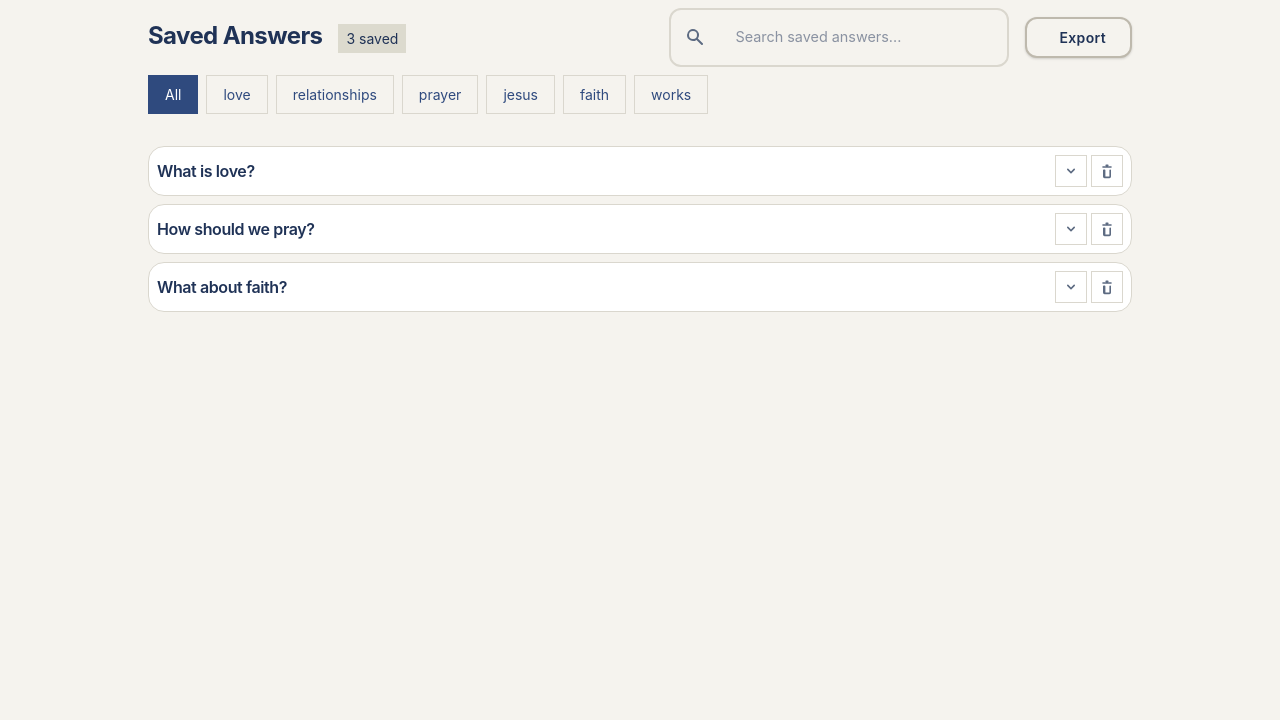
Test: SavedAnswers.vue › Export Functionality › export modal starts with no answers selected
The width and height of the screenshot is (1280, 720).
Click the button with class "btn--secondary" at (1079, 37), box [1025,17,1132,58]
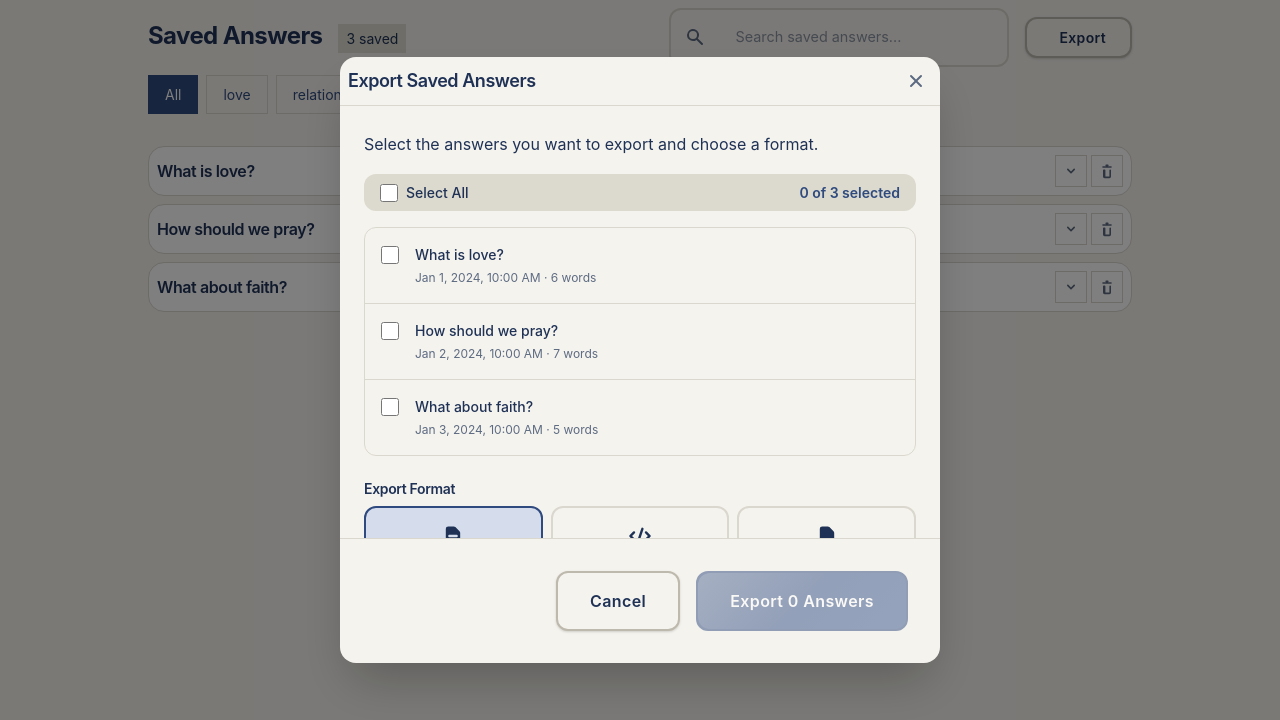
Result: the text with class "export-selection-count" reads "0 of 3 selected" at [799,184,900,201]
